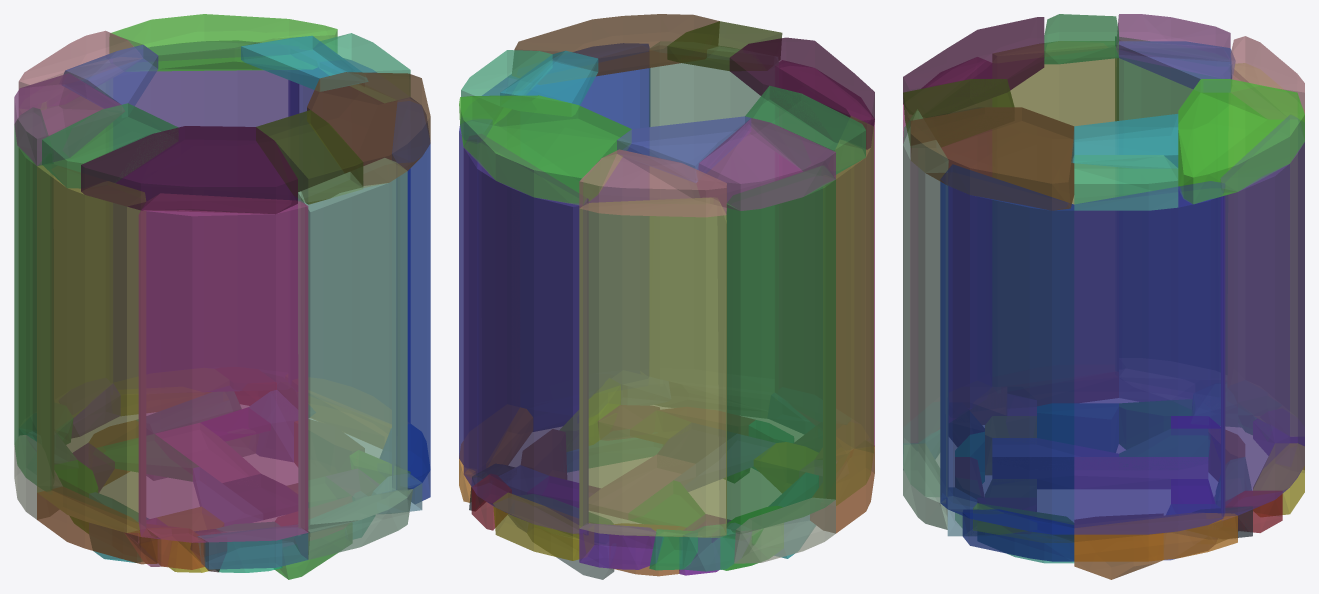
3 renders of one model, left to right at view 1: azimuth 30°, elevation 25°; view 2: azimuth 150°, elevation 25°; view 3: azimuth 270°, elevation 25°, orthographic.
Parts seen in each view (by area): view 1: Shape_IndexedFaceSet.007, Shape_IndexedFaceSet.012, Shape_IndexedFaceSet.018, Shape_IndexedFaceSet.006, Shape_IndexedFaceSet.013, Shape_IndexedFaceSet.002, Shape_IndexedFaceSet.009, Shape_IndexedFaceSet.003, Shape_IndexedFaceSet.019, Shape_IndexedFaceSet.021, Shape_IndexedFaceSet.014, Shape_IndexedFaceSet.008 (+36 smaller); view 2: Shape_IndexedFaceSet.002, Shape_IndexedFaceSet.012, Shape_IndexedFaceSet.003, Shape_IndexedFaceSet.018, Shape_IndexedFaceSet.019, Shape_IndexedFaceSet.007, Shape_IndexedFaceSet.006, Shape_IndexedFaceSet.013, Shape_IndexedFaceSet.014, Shape_IndexedFaceSet.021, Shape_IndexedFaceSet.009, Shape_IndexedFaceSet.024 (+39 smaller); view 3: Shape_IndexedFaceSet.013, Shape_IndexedFaceSet.019, Shape_IndexedFaceSet.006, Shape_IndexedFaceSet.012, Shape_IndexedFaceSet.003, Shape_IndexedFaceSet.007, Shape_IndexedFaceSet.002, Shape_IndexedFaceSet.018, Shape_IndexedFaceSet.021, Shape_IndexedFaceSet.014, Shape_IndexedFaceSet.009, Shape_IndexedFaceSet.011 (+36 smaller).
Boxes of the visible parts, x1,y1,x2,y2 form: Shape_IndexedFaceSet.007: [138, 193, 308, 542]; Shape_IndexedFaceSet.012: [113, 41, 298, 391]; Shape_IndexedFaceSet.018: [298, 158, 407, 535]; Shape_IndexedFaceSet.006: [37, 164, 145, 532]; Shape_IndexedFaceSet.013: [288, 59, 410, 422]; Shape_IndexedFaceSet.002: [19, 81, 108, 426]; Shape_IndexedFaceSet.009: [81, 126, 297, 214]; Shape_IndexedFaceSet.003: [14, 107, 53, 491]; Shape_IndexedFaceSet.019: [392, 98, 430, 489]; Shape_IndexedFaceSet.021: [307, 72, 430, 187]; Shape_IndexedFaceSet.014: [109, 14, 337, 71]; Shape_IndexedFaceSet.008: [42, 103, 178, 188]; Shape_IndexedFaceSet.002: [579, 197, 726, 537]; Shape_IndexedFaceSet.012: [463, 134, 588, 534]; Shape_IndexedFaceSet.003: [726, 165, 835, 536]; Shape_IndexedFaceSet.018: [649, 41, 778, 388]; Shape_IndexedFaceSet.019: [509, 43, 649, 394]; Shape_IndexedFaceSet.007: [779, 60, 874, 446]; Shape_IndexedFaceSet.006: [823, 116, 873, 505]; Shape_IndexedFaceSet.013: [459, 77, 519, 473]; Shape_IndexedFaceSet.014: [459, 95, 631, 204]; Shape_IndexedFaceSet.021: [512, 14, 719, 84]; Shape_IndexedFaceSet.009: [729, 37, 874, 149]; Shape_IndexedFaceSet.024: [697, 118, 835, 210]; Shape_IndexedFaceSet.013: [1074, 181, 1224, 534]; Shape_IndexedFaceSet.019: [940, 164, 1074, 534]; Shape_IndexedFaceSet.006: [992, 41, 1118, 376]; Shape_IndexedFaceSet.012: [1221, 115, 1304, 520]; Shape_IndexedFaceSet.003: [1115, 36, 1227, 374]; Shape_IndexedFaceSet.007: [903, 57, 991, 442]; Shape_IndexedFaceSet.002: [1228, 63, 1304, 436]; Shape_IndexedFaceSet.018: [903, 110, 948, 496]; Shape_IndexedFaceSet.021: [910, 107, 1074, 210]; Shape_IndexedFaceSet.014: [1178, 79, 1304, 204]; Shape_IndexedFaceSet.009: [903, 17, 1044, 117]; Shape_IndexedFaceSet.011: [1074, 513, 1237, 561].
Size of the model in its own units: 0.5488 by 0.6505 by 0.5488.
